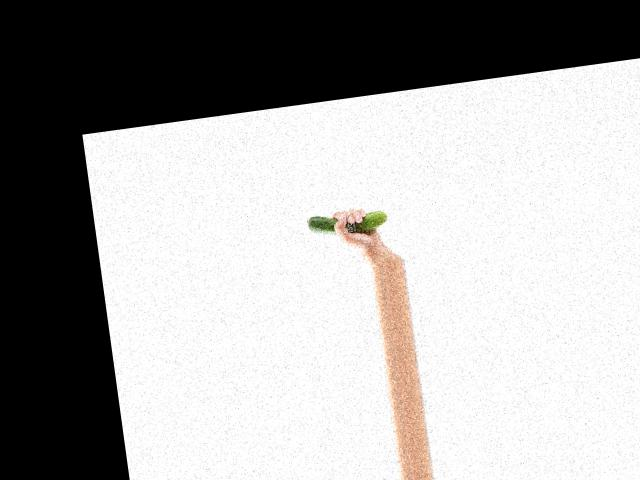cucumber: (306, 205, 388, 239)
